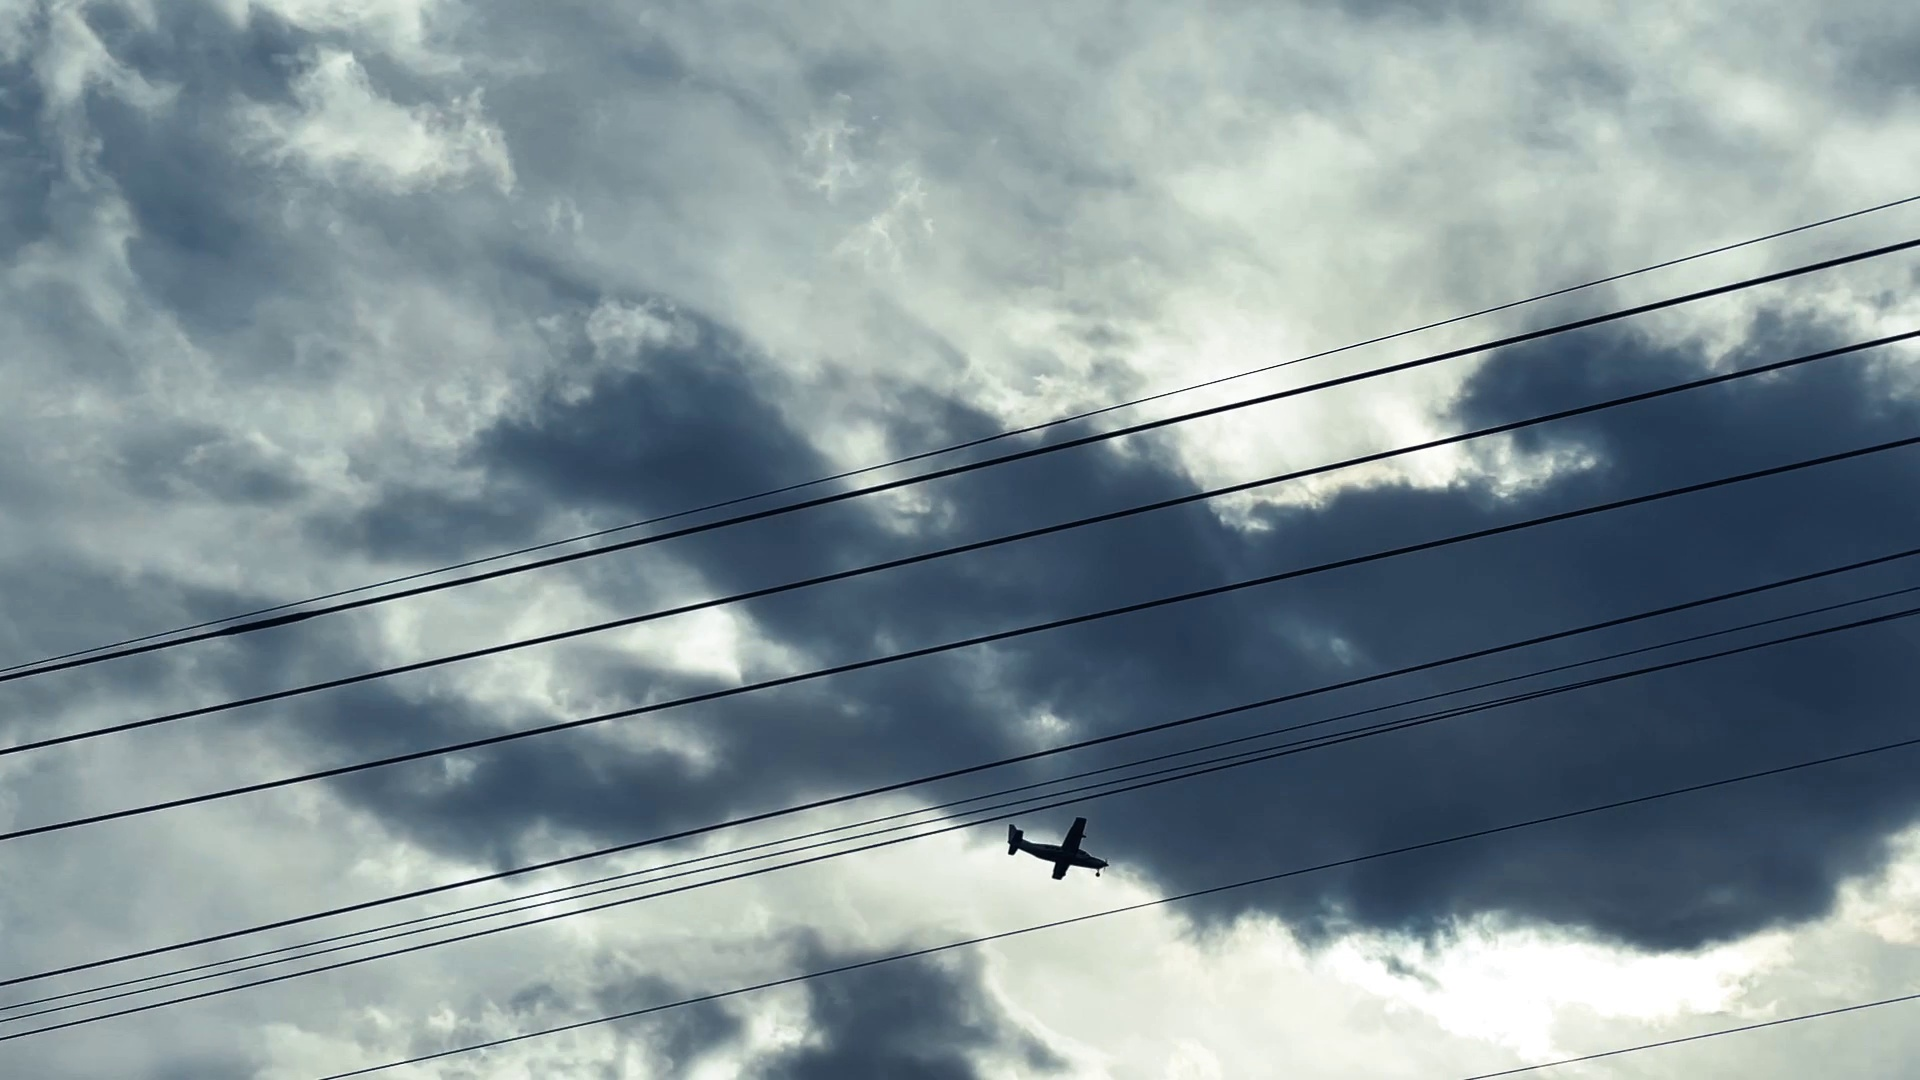plane: (1006, 818, 1108, 880)
